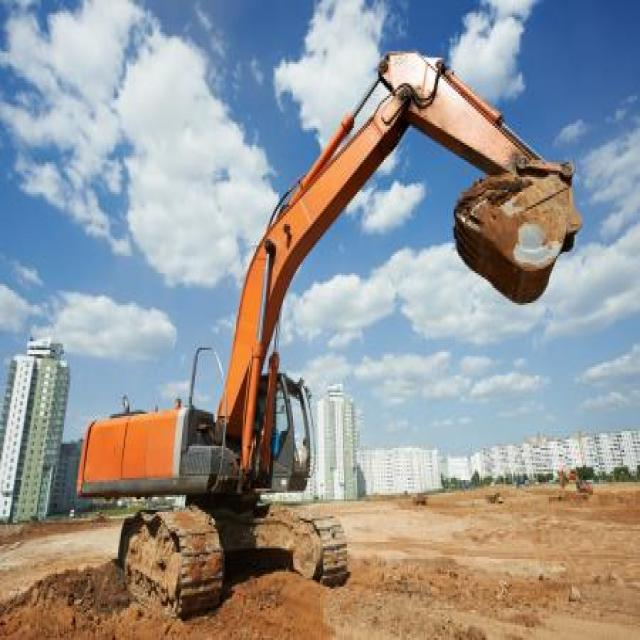Excavadora: (76, 47, 584, 616)
